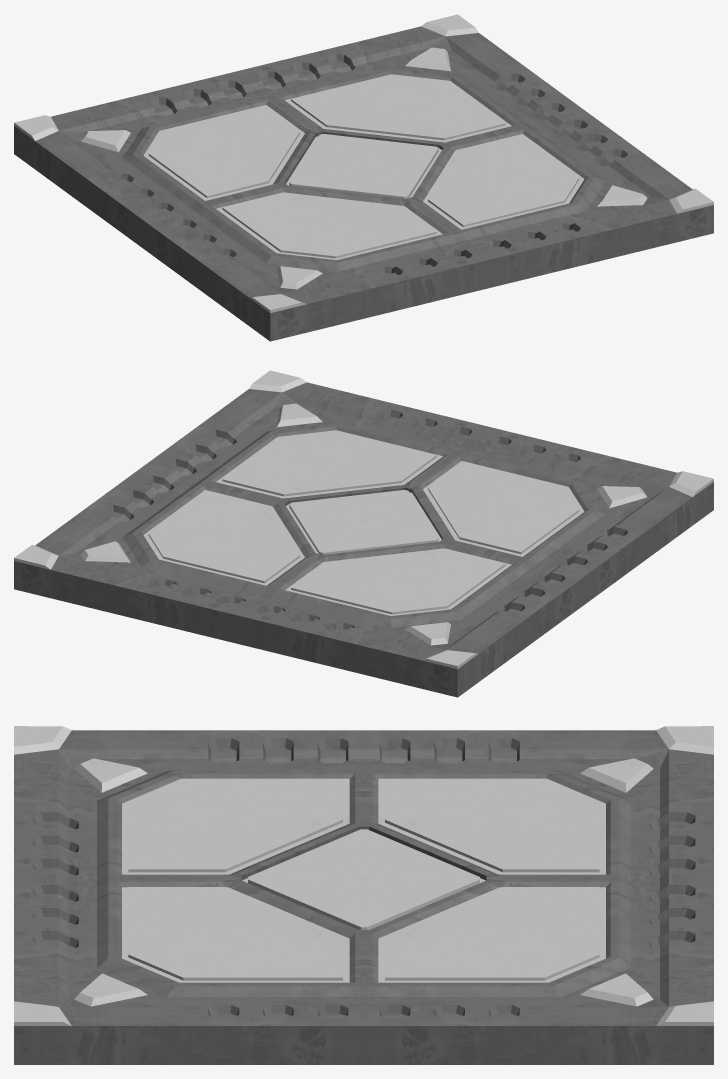
The model's file is Floor 2.fbx.
3 views of the same model, one above another, from view 1: azimuth 30°, elevation 25°; view 2: azimuth 150°, elevation 25°; view 3: azimuth 270°, elevation 25° (orthographic). The views are drawn at different scales.
Parts seen in each view (by area): view 1: Plane.003; view 2: Plane.003; view 3: Plane.003.
Part boxes in pixels (box(x1,y1,x2,y2)): Plane.003: box(14, 14, 713, 341); Plane.003: box(14, 370, 713, 697); Plane.003: box(14, 726, 713, 1064).
Size of the model in its own units: 200 by 13.52 by 200.
1 material, 1 textured.
